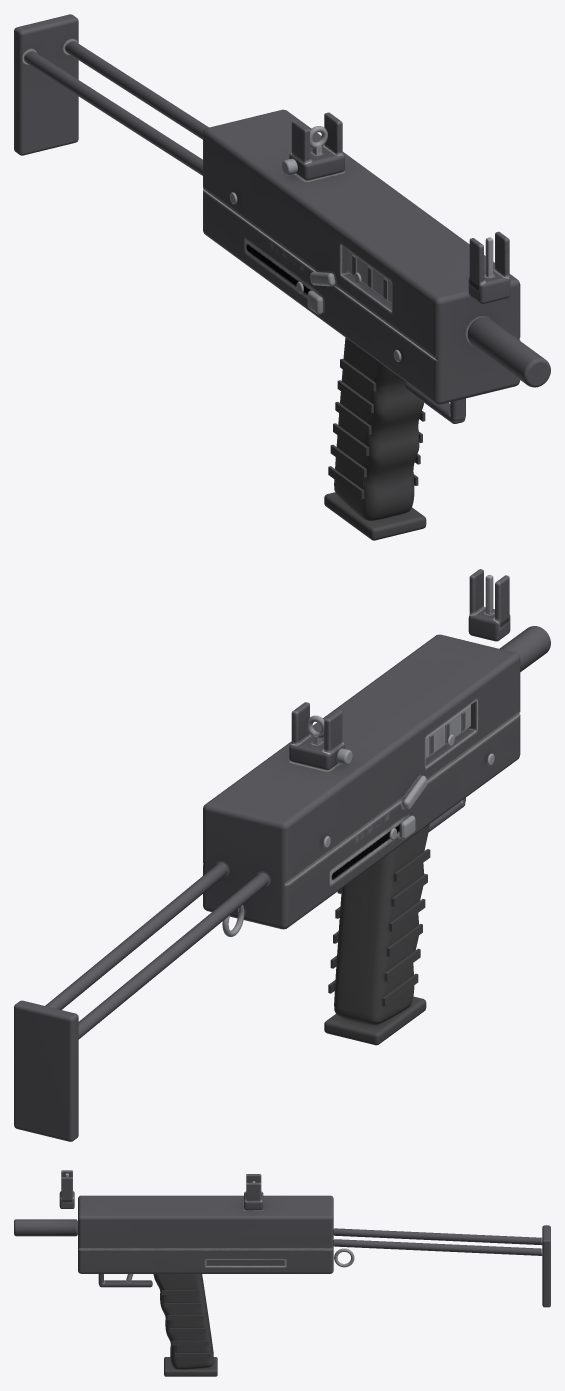
File: mac10.fbx
The picture shows the model from 3 angles, top to bottom: view 1: azimuth 30°, elevation 25°; view 2: azimuth 150°, elevation 25°; view 3: azimuth 270°, elevation 25°; orthographic projection. The views are drawn at different scales.
Visible parts, largest first — view 1: mac10; view 2: mac10; view 3: mac10.
Part boxes in pixels (bbox=[...]): mac10: bbox=[14, 14, 550, 540]; mac10: bbox=[14, 569, 550, 1141]; mac10: bbox=[14, 1170, 550, 1376].
Size of the model in its own units: 0.054 by 0.2033 by 0.504.
